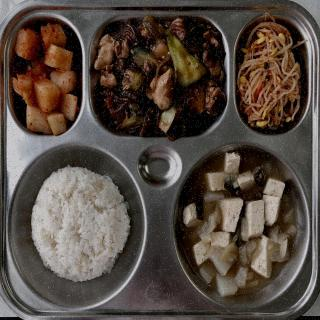Nasi: (27, 161, 132, 285)
